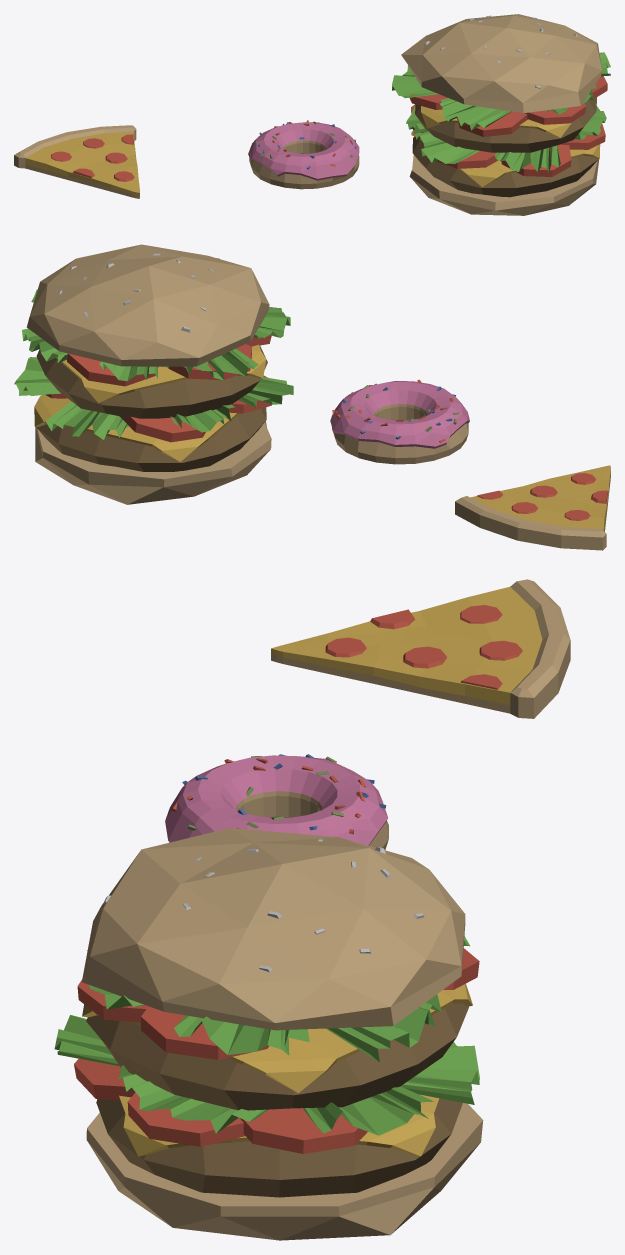
Rendered from Foods.fbx.
The picture shows the model from 3 angles, top to bottom: view 1: azimuth 30°, elevation 25°; view 2: azimuth 150°, elevation 25°; view 3: azimuth 270°, elevation 25°; orthographic projection. The views are drawn at different scales.
Visible parts, largest first — view 1: BurgerLarge, Donut1, Pizza_Slice; view 2: BurgerLarge, Donut1, Pizza_Slice; view 3: BurgerLarge, Pizza_Slice, Donut1.
Boxes of the visible parts, x1,y1,x2,y2 form: BurgerLarge: [392, 14, 610, 215]; Donut1: [248, 120, 359, 189]; Pizza_Slice: [14, 125, 139, 198]; BurgerLarge: [14, 244, 293, 504]; Donut1: [330, 379, 469, 464]; Pizza_Slice: [455, 465, 610, 550]; BurgerLarge: [54, 828, 483, 1240]; Pizza_Slice: [271, 579, 570, 718]; Donut1: [165, 754, 388, 849].
Size of the model in its own units: 2.35 by 0.723 by 1.
